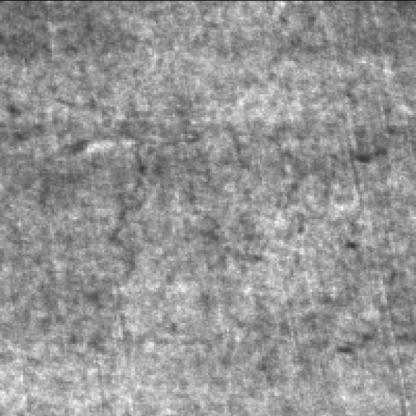crazing: (108, 119, 393, 268)
